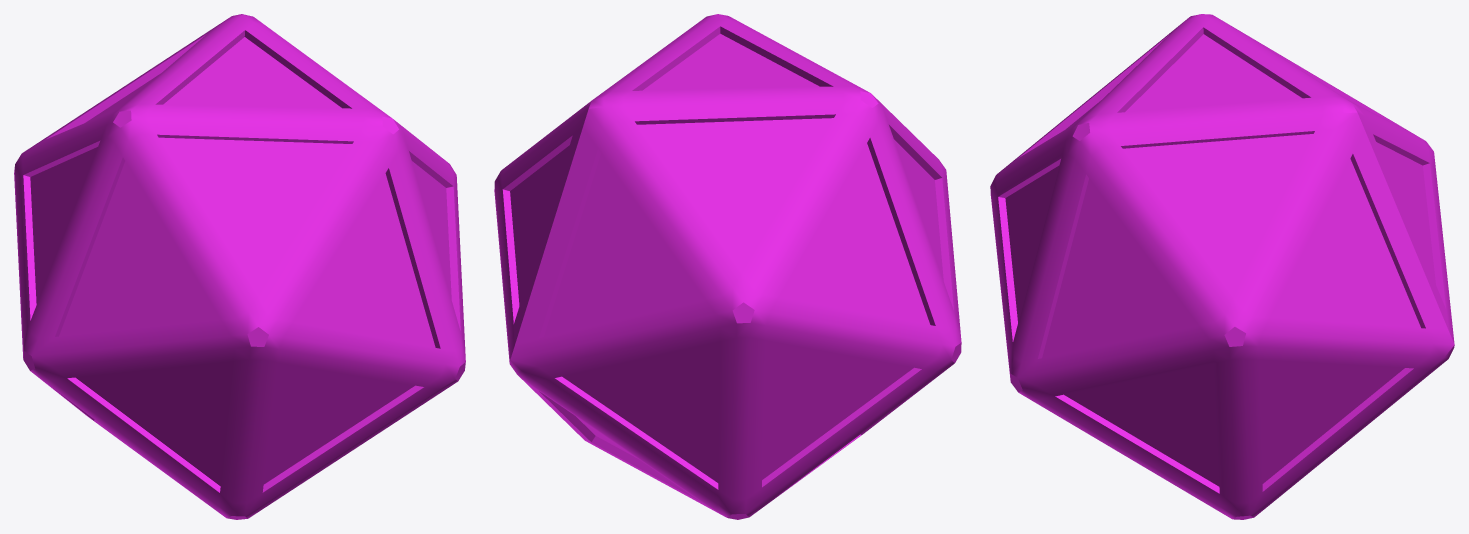
3 views of the same model, side by side, from view 1: azimuth 30°, elevation 25°; view 2: azimuth 150°, elevation 25°; view 3: azimuth 270°, elevation 25° (orthographic). The views are drawn at different scales.
Parts seen in each view (by area): view 1: Barril.001; view 2: Barril.001; view 3: Barril.001.
Boxes of the visible parts, x1,y1,x2,y2 form: Barril.001: [14, 14, 465, 519]; Barril.001: [494, 14, 961, 519]; Barril.001: [990, 14, 1454, 519].
Bounding box in the file's own units: 0.3331 × 0.2814 × 0.3041.
